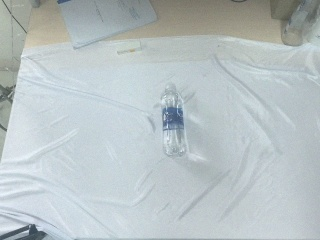bottle: (161, 83, 187, 158), (281, 1, 320, 47)
